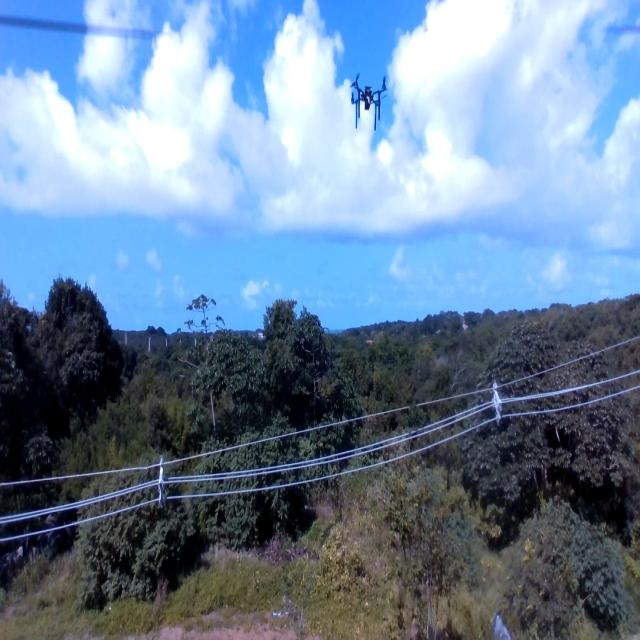-uav-: (344, 59, 394, 142)
